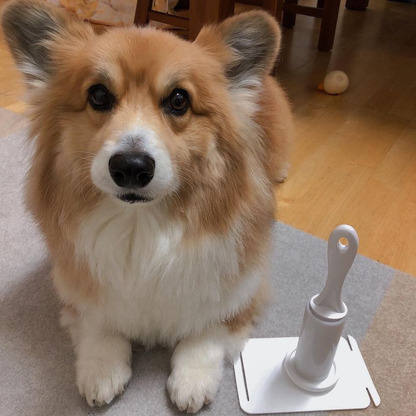Corgi: (10, 13, 300, 405)
